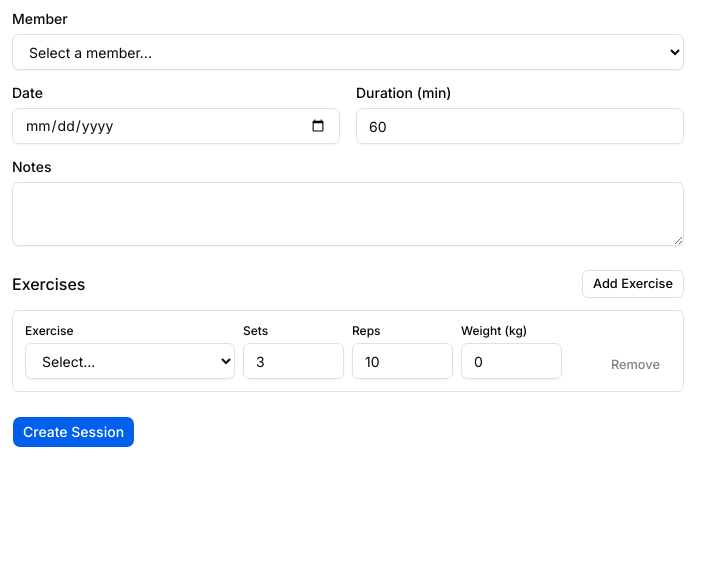
Test: CreateWorkoutSessionForm › createWorkoutSessionForm_createFailsWithFieldErrors_showsReturnedMetadataErrors
The width and height of the screenshot is (704, 582).
Select "John Smith (john@example.com)" in the dropdown labelled "Member". click: (348, 52)
box: [12,34,684,70]
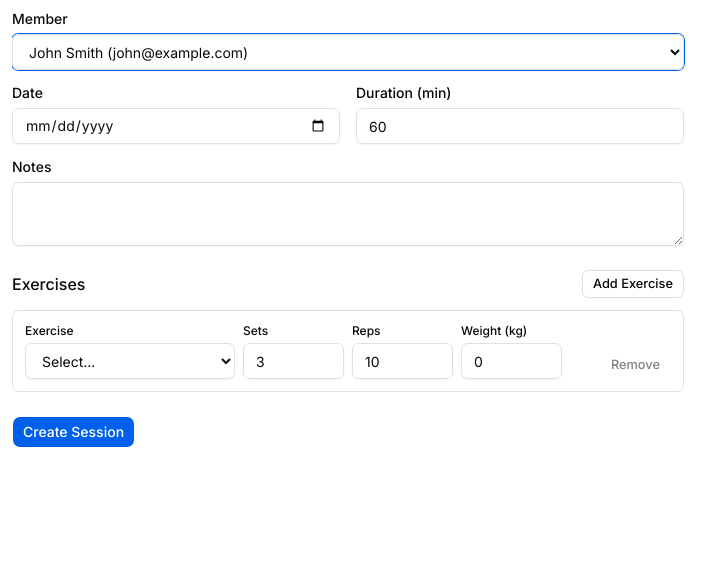
Type "2026-02-20" into the date field labelled "Date". click: (176, 126)
box: [12,108,340,144]
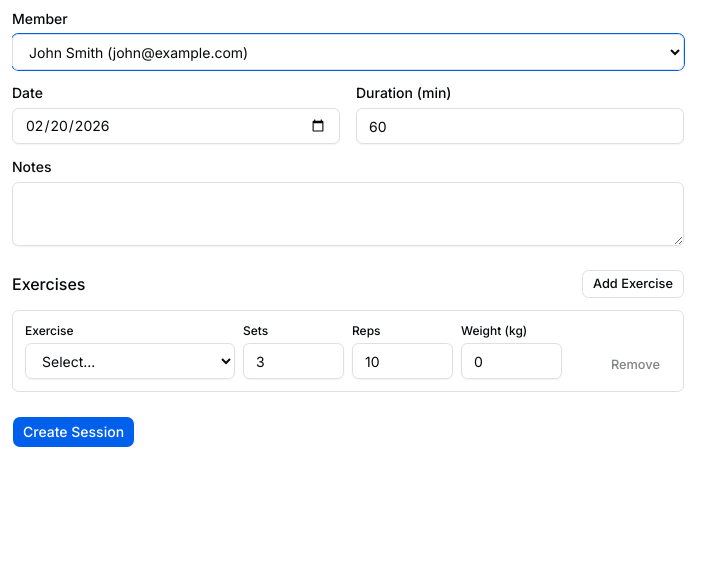
Replace the text in the field labelled "Duration (min)" with "45". click: (520, 126)
box: [356,108,684,144]
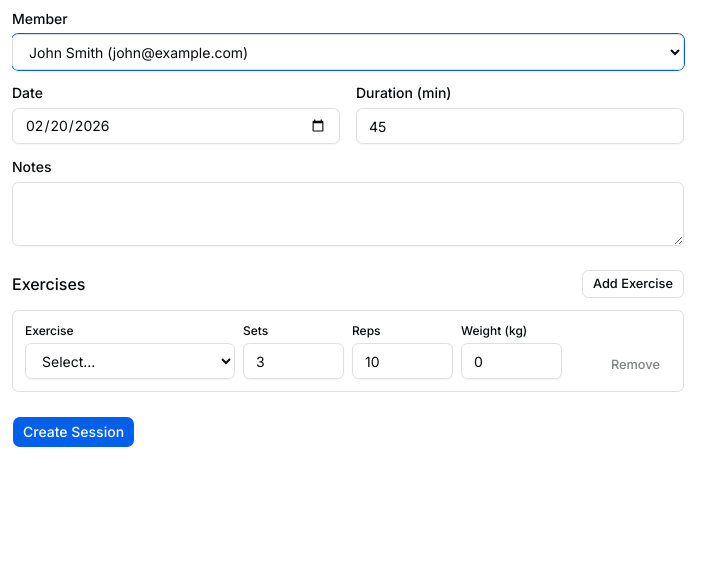
Type "Solid effort" into the text box labelled "Notes". click: (348, 214)
box: [12,182,684,246]
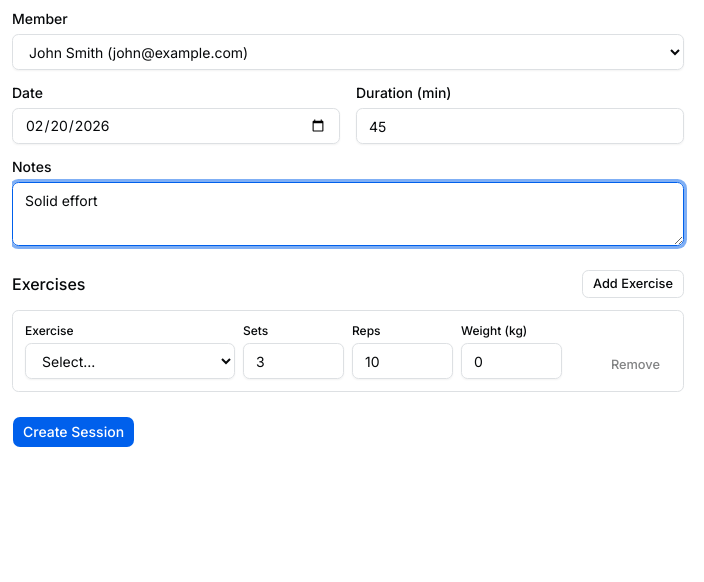
Select "Barbell Bench Press" in the 2nd dropdown. click: (130, 361)
box: [25,343,235,379]
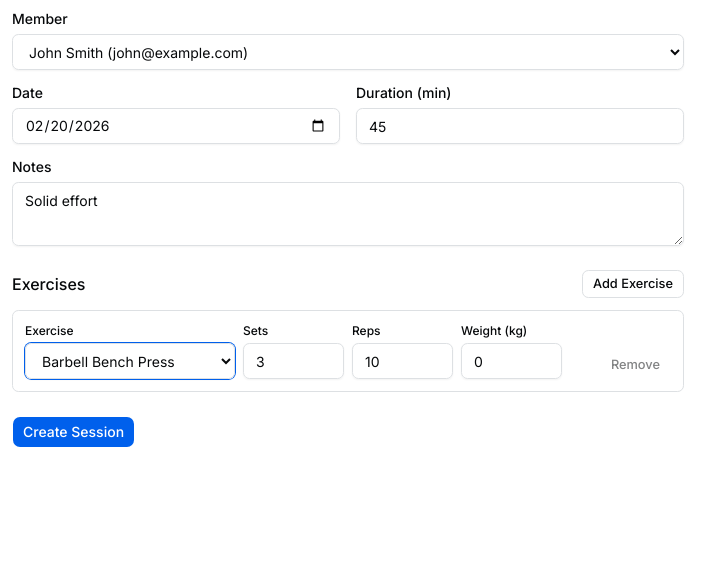
Click the button "Create Session". click: (74, 432)
box: [12,416,135,448]
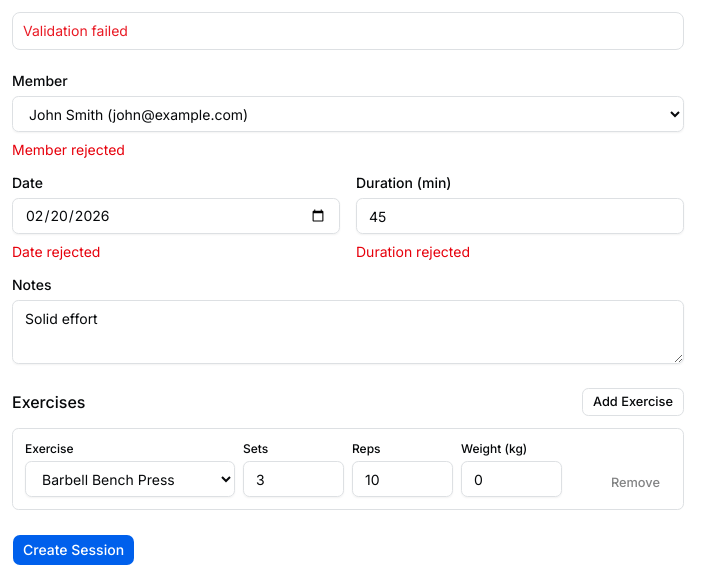
Expected: the text "Validation failed" is shown, [23,22,128,39]
Expected: the text "Member rejected" is shown, [12,141,125,158]
Expected: the text "Date rejected" is shown, [12,243,100,260]
